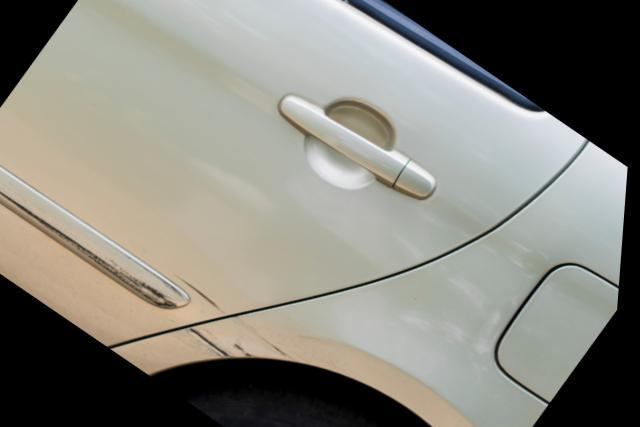scratch: (0, 177, 241, 324), (190, 312, 306, 360)
